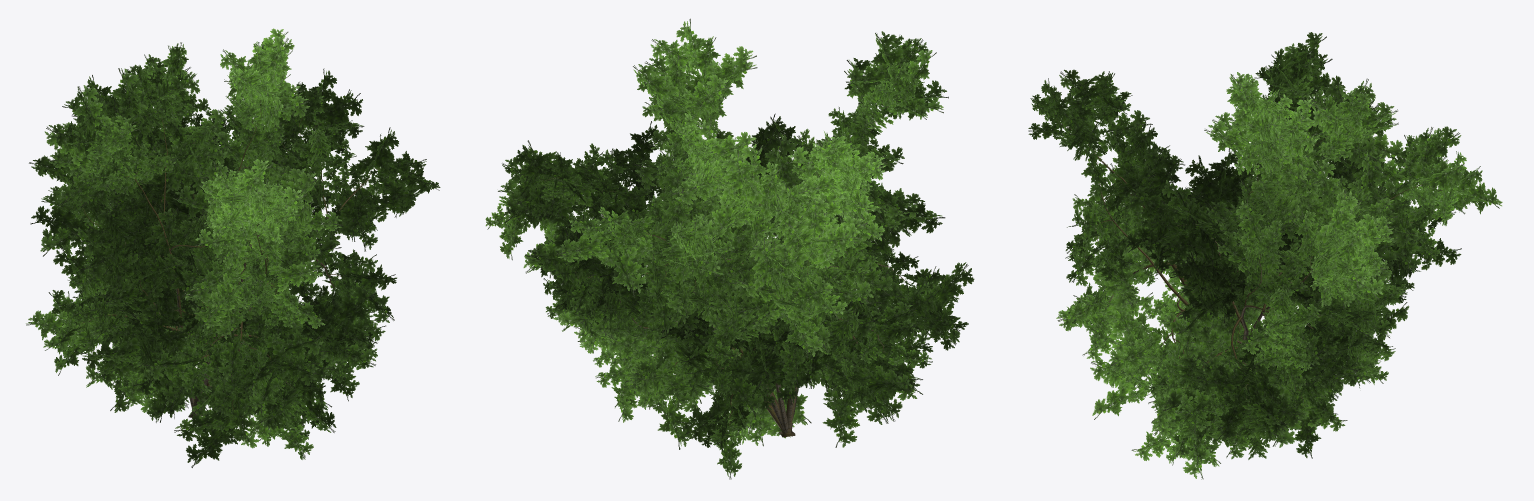
The model's file is bush_lod0.glb.
The picture shows the model from 3 angles, left to right: view 1: azimuth 30°, elevation 25°; view 2: azimuth 150°, elevation 25°; view 3: azimuth 270°, elevation 25°; orthographic projection. The views are drawn at different scales.
Parts seen in each view (by area): view 1: leaves, bark; view 2: leaves, bark; view 3: leaves, bark.
Boxes of the visible parts, x1,y1,x2,y2 form: leaves: (26, 28, 440, 467); bark: (75, 89, 399, 419); leaves: (485, 18, 974, 479); bark: (518, 86, 915, 437); leaves: (1028, 32, 1502, 479); bark: (1054, 99, 1442, 419).
Bounding box in the file's own units: 2.53 × 2.4 × 2.55.
2 materials, 2 textured.
